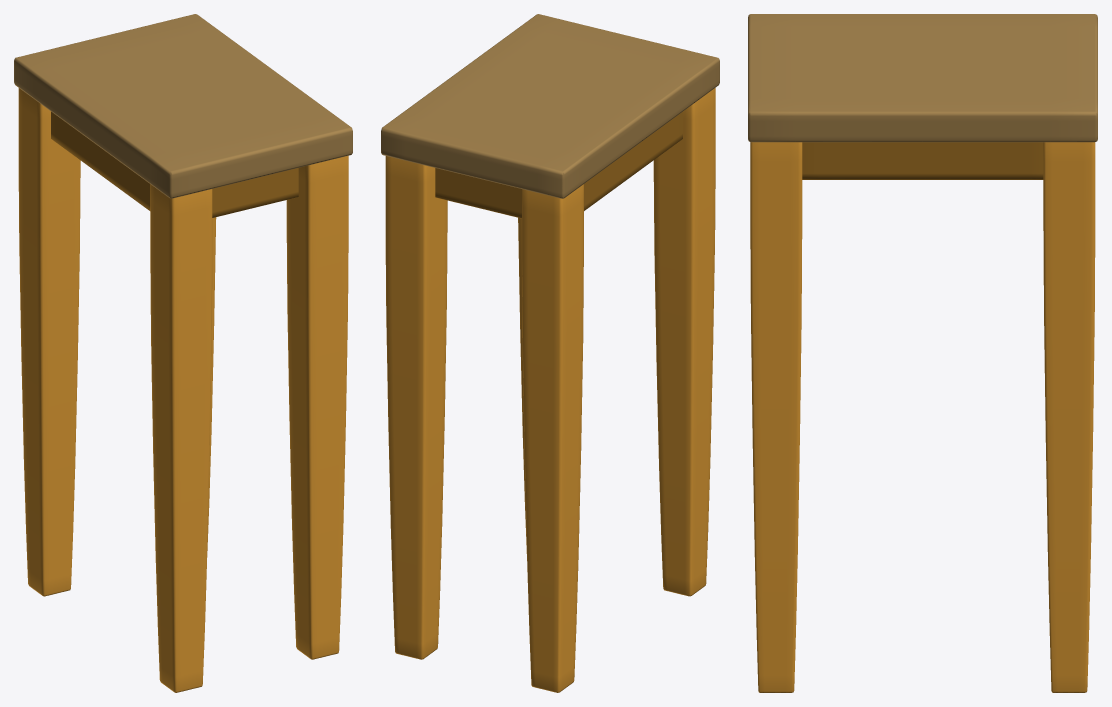
Rendered from tiny table.FBX.
3 renders of one model, left to right at view 1: azimuth 30°, elevation 25°; view 2: azimuth 150°, elevation 25°; view 3: azimuth 270°, elevation 25°, orthographic. The views are drawn at different scales.
Parts seen in each view (by area): view 1: Top, Leg3, Leg4, Leg2, Bottom, Leg1; view 2: Top, Leg2, Leg1, Leg3, Bottom, Leg4; view 3: Top, Leg1, Leg4, Bottom.
Part boxes in pixels (x1,y1,x2,y2): Top: (14, 14, 352, 198); Leg3: (150, 184, 212, 692); Leg4: (286, 155, 348, 659); Leg2: (18, 88, 80, 596); Bottom: (51, 111, 298, 217); Leg1: (207, 217, 216, 550); Top: (381, 14, 719, 198); Leg2: (522, 184, 583, 692); Leg1: (385, 156, 447, 659); Leg3: (653, 88, 715, 596); Bottom: (435, 112, 682, 218); Leg4: (518, 217, 526, 553); Top: (748, 14, 1097, 142); Leg1: (1043, 142, 1095, 692); Leg4: (750, 142, 802, 692); Bottom: (802, 142, 1043, 179).
Bounding box in the file's own units: 30.02 × 82.6 × 44.68.
